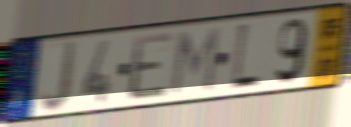4: (79, 37, 113, 107)
9: (274, 16, 310, 86)
E: (127, 30, 175, 104)
J: (38, 38, 79, 116)
L: (229, 21, 262, 95)
M: (168, 25, 222, 97)
